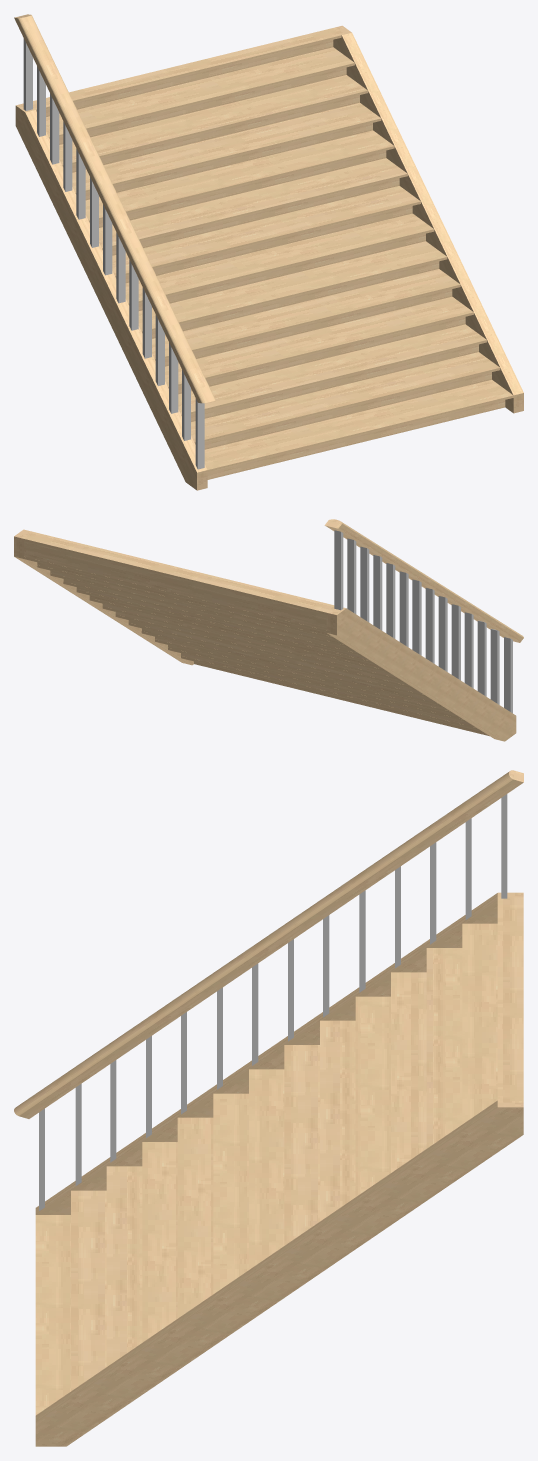
File: sh-contrib-staircase-ladder-steep.glb
3 renders of one model, top to bottom at view 1: azimuth 30°, elevation 25°; view 2: azimuth 150°, elevation 25°; view 3: azimuth 270°, elevation 25°, orthographic. The views are drawn at different scales.
Parts seen in each view (by area): view 1: 5_5, 28_28, 2_2.001; view 2: 5_5, 28_28, 2_2.001; view 3: 5_5, 2_2.001, 28_28.
Boxes of the visible parts, x1,y1,x2,y2 form: 5_5: (15, 25, 523, 490); 28_28: (23, 38, 204, 469); 2_2.001: (14, 14, 215, 403); 5_5: (14, 529, 516, 741); 28_28: (334, 530, 512, 713); 2_2.001: (324, 519, 523, 642); 5_5: (35, 892, 523, 1446); 2_2.001: (14, 770, 523, 1118); 28_28: (39, 794, 507, 1210).
Size of the model in its own units: 1 by 1 by 1.
3 materials, 2 textured.
